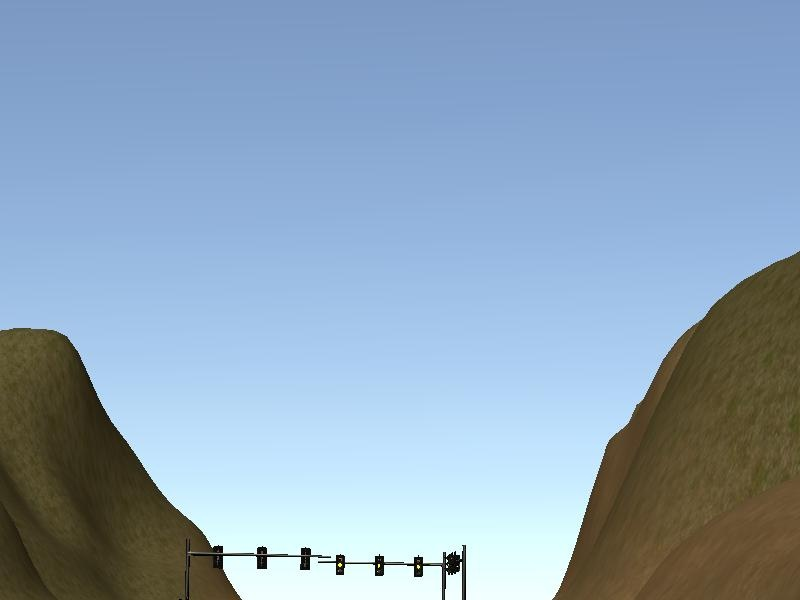traffic_light_yellow: (330, 555, 444, 579)
